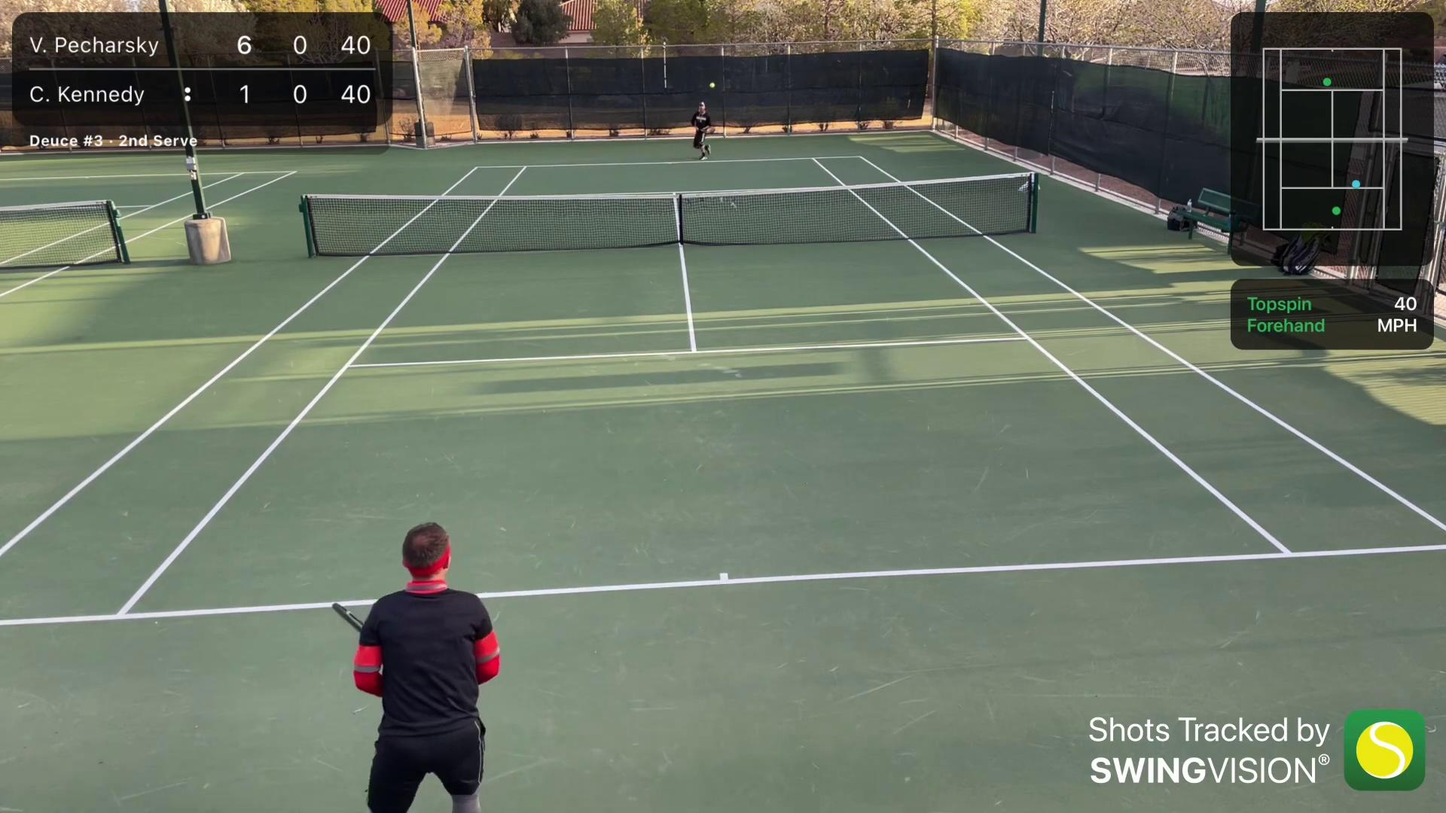ball: (709, 82, 714, 87)
